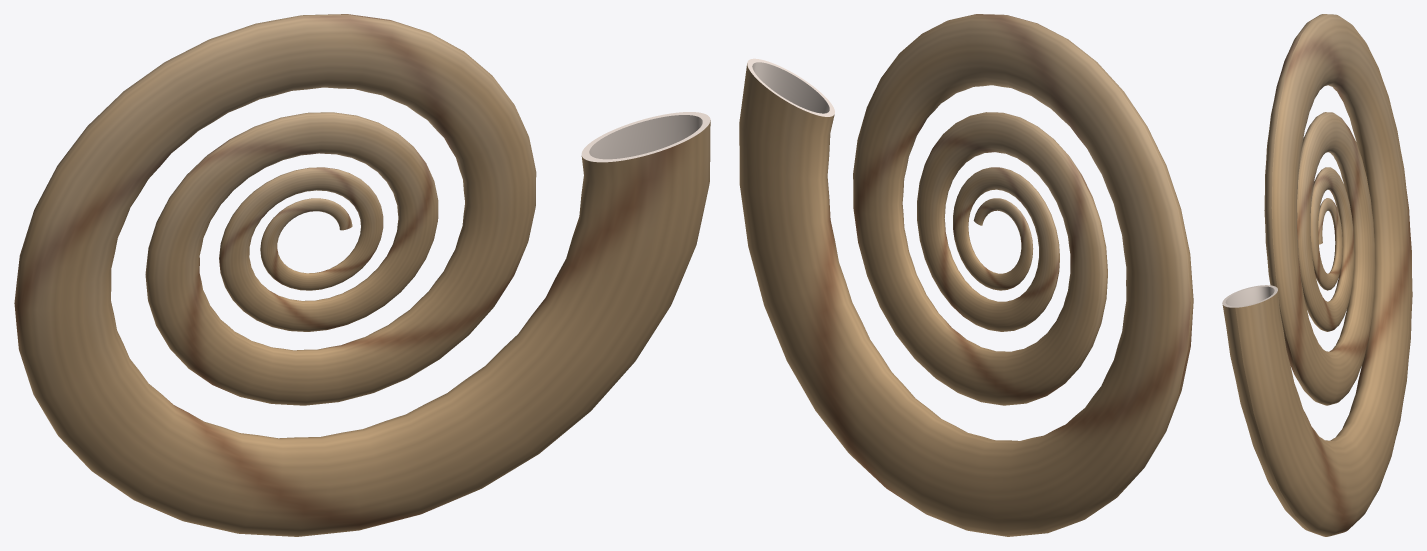
Rendered from sundial.glb.
3 views of the same model, side by side, from view 1: azimuth 30°, elevation 25°; view 2: azimuth 150°, elevation 25°; view 3: azimuth 270°, elevation 25° (orthographic). The views are drawn at different scales.
Parts seen in each view (by area): view 1: sundial; view 2: sundial; view 3: sundial.
Part boxes in pixels (x1=…): sundial: x1=14, y1=14, x2=710, y2=536; sundial: x1=739, y1=14, x2=1193, y2=536; sundial: x1=1222, y1=14, x2=1412, y2=536.
Bounding box in the file's own units: 2.03 × 1.8 × 0.6879.
